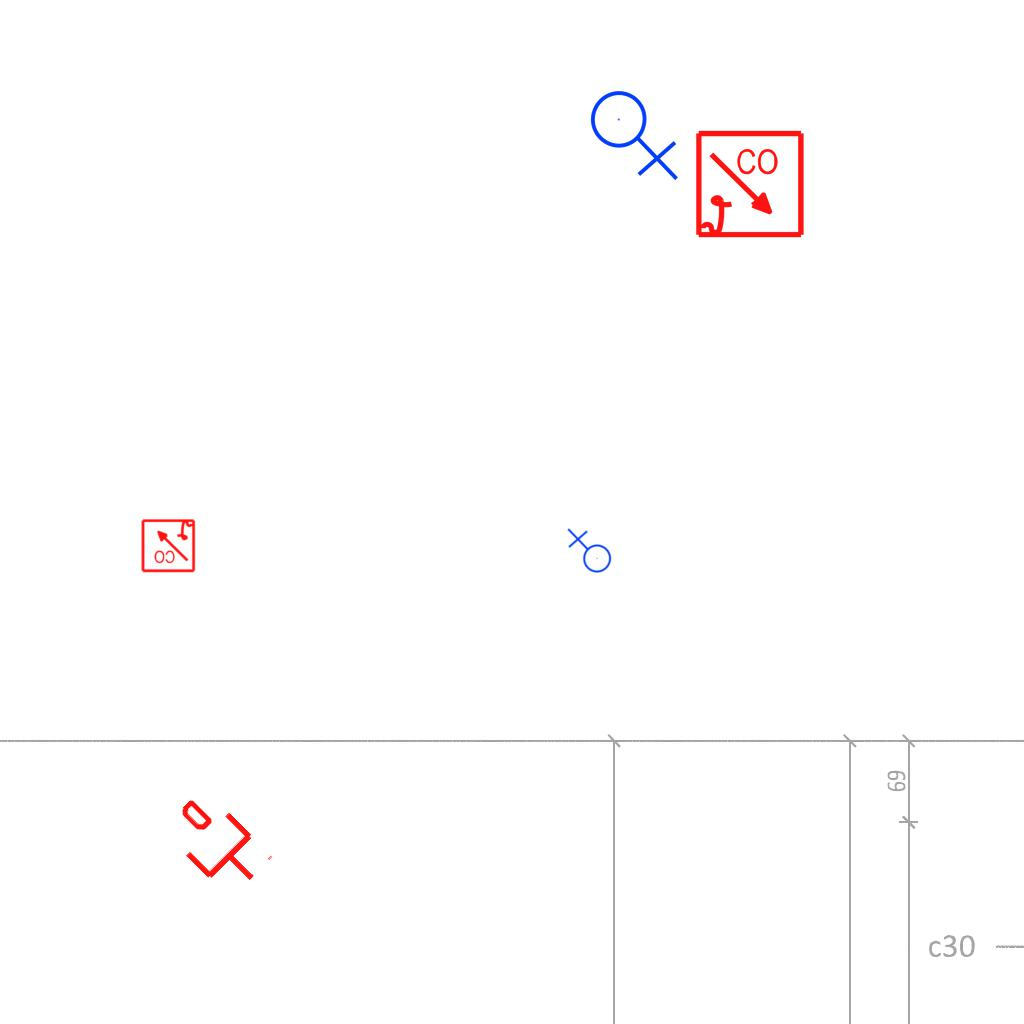Datenanschluss_einfach: (157, 784, 278, 904)
Elektroanschluss_allgemein_230V_Geraeteanschlussdose_230V: (589, 82, 683, 181), (565, 528, 612, 577)
ROA_Rauchmelder_optisch_mit_Signalgeber_(Sockelsirene): (694, 129, 807, 242), (140, 517, 196, 573)
